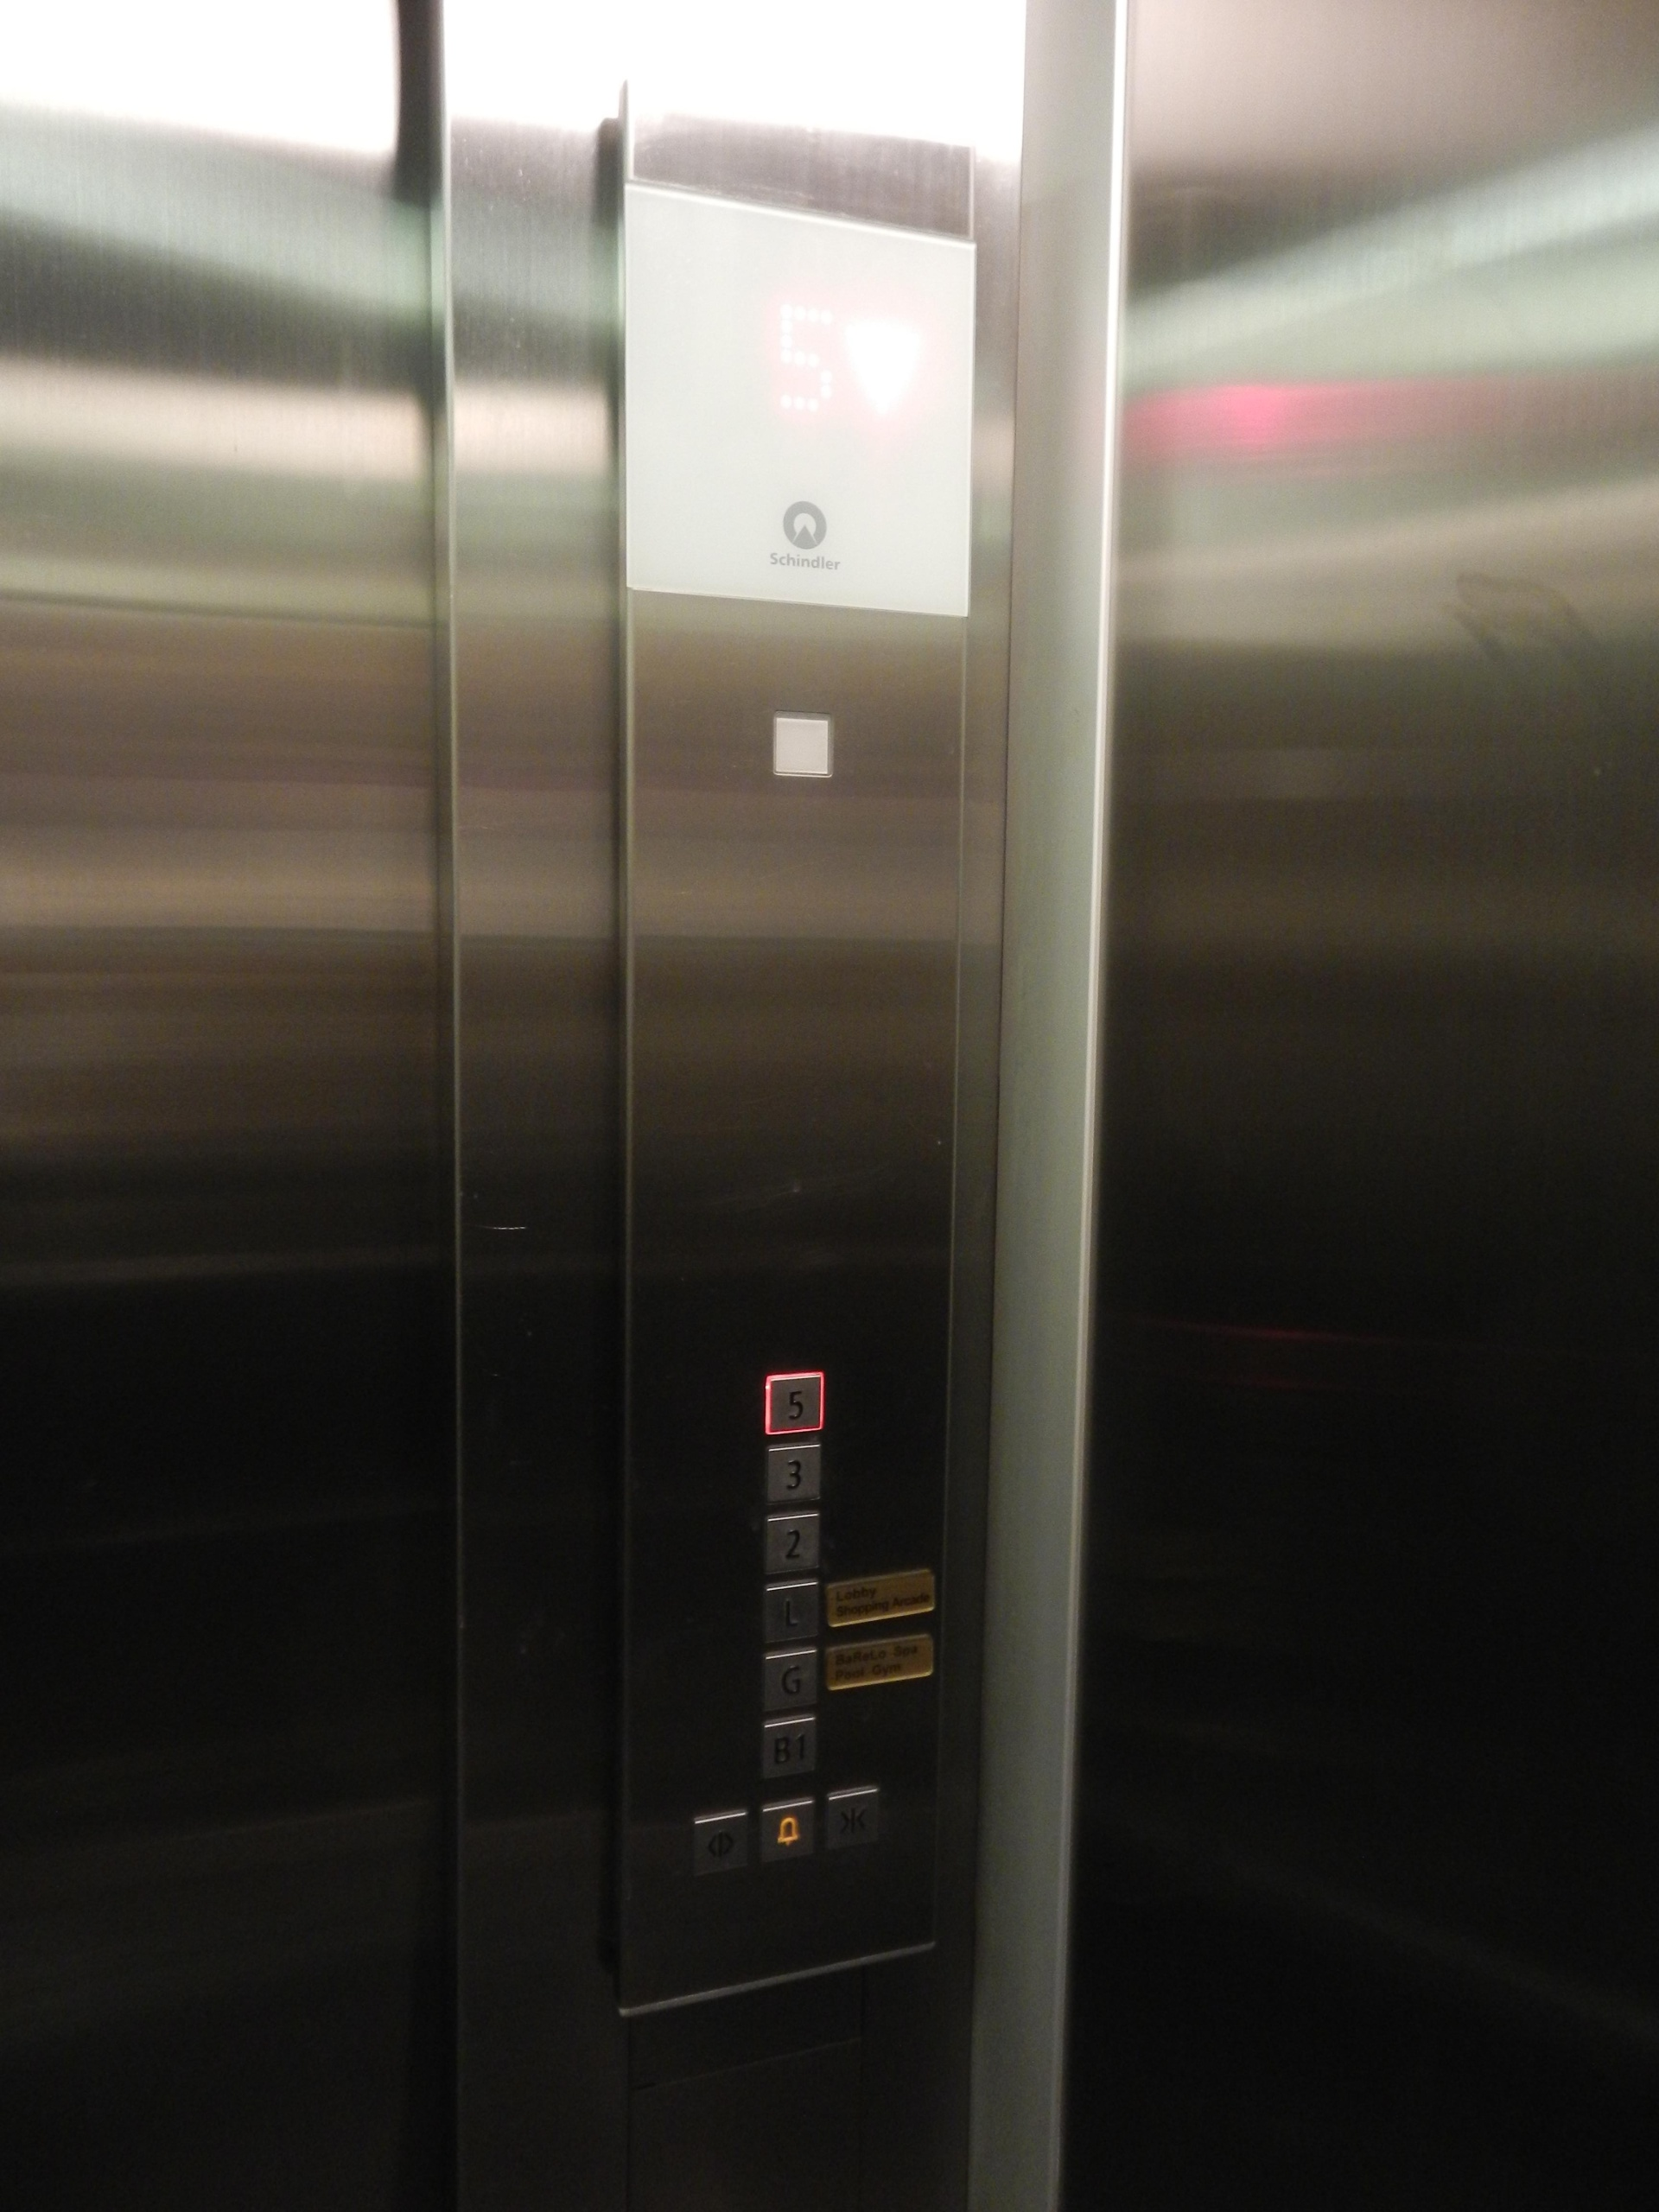2: (760, 1507, 828, 1578)
3: (760, 1437, 829, 1507)
5: (762, 1364, 829, 1439)
B1: (758, 1712, 821, 1785)
G: (758, 1644, 824, 1716)
L: (760, 1576, 824, 1649)
alarm: (756, 1796, 817, 1871)
close: (823, 1782, 884, 1857)
empty: (765, 704, 835, 784)
led: (612, 169, 983, 631)
open: (690, 1804, 751, 1885)
